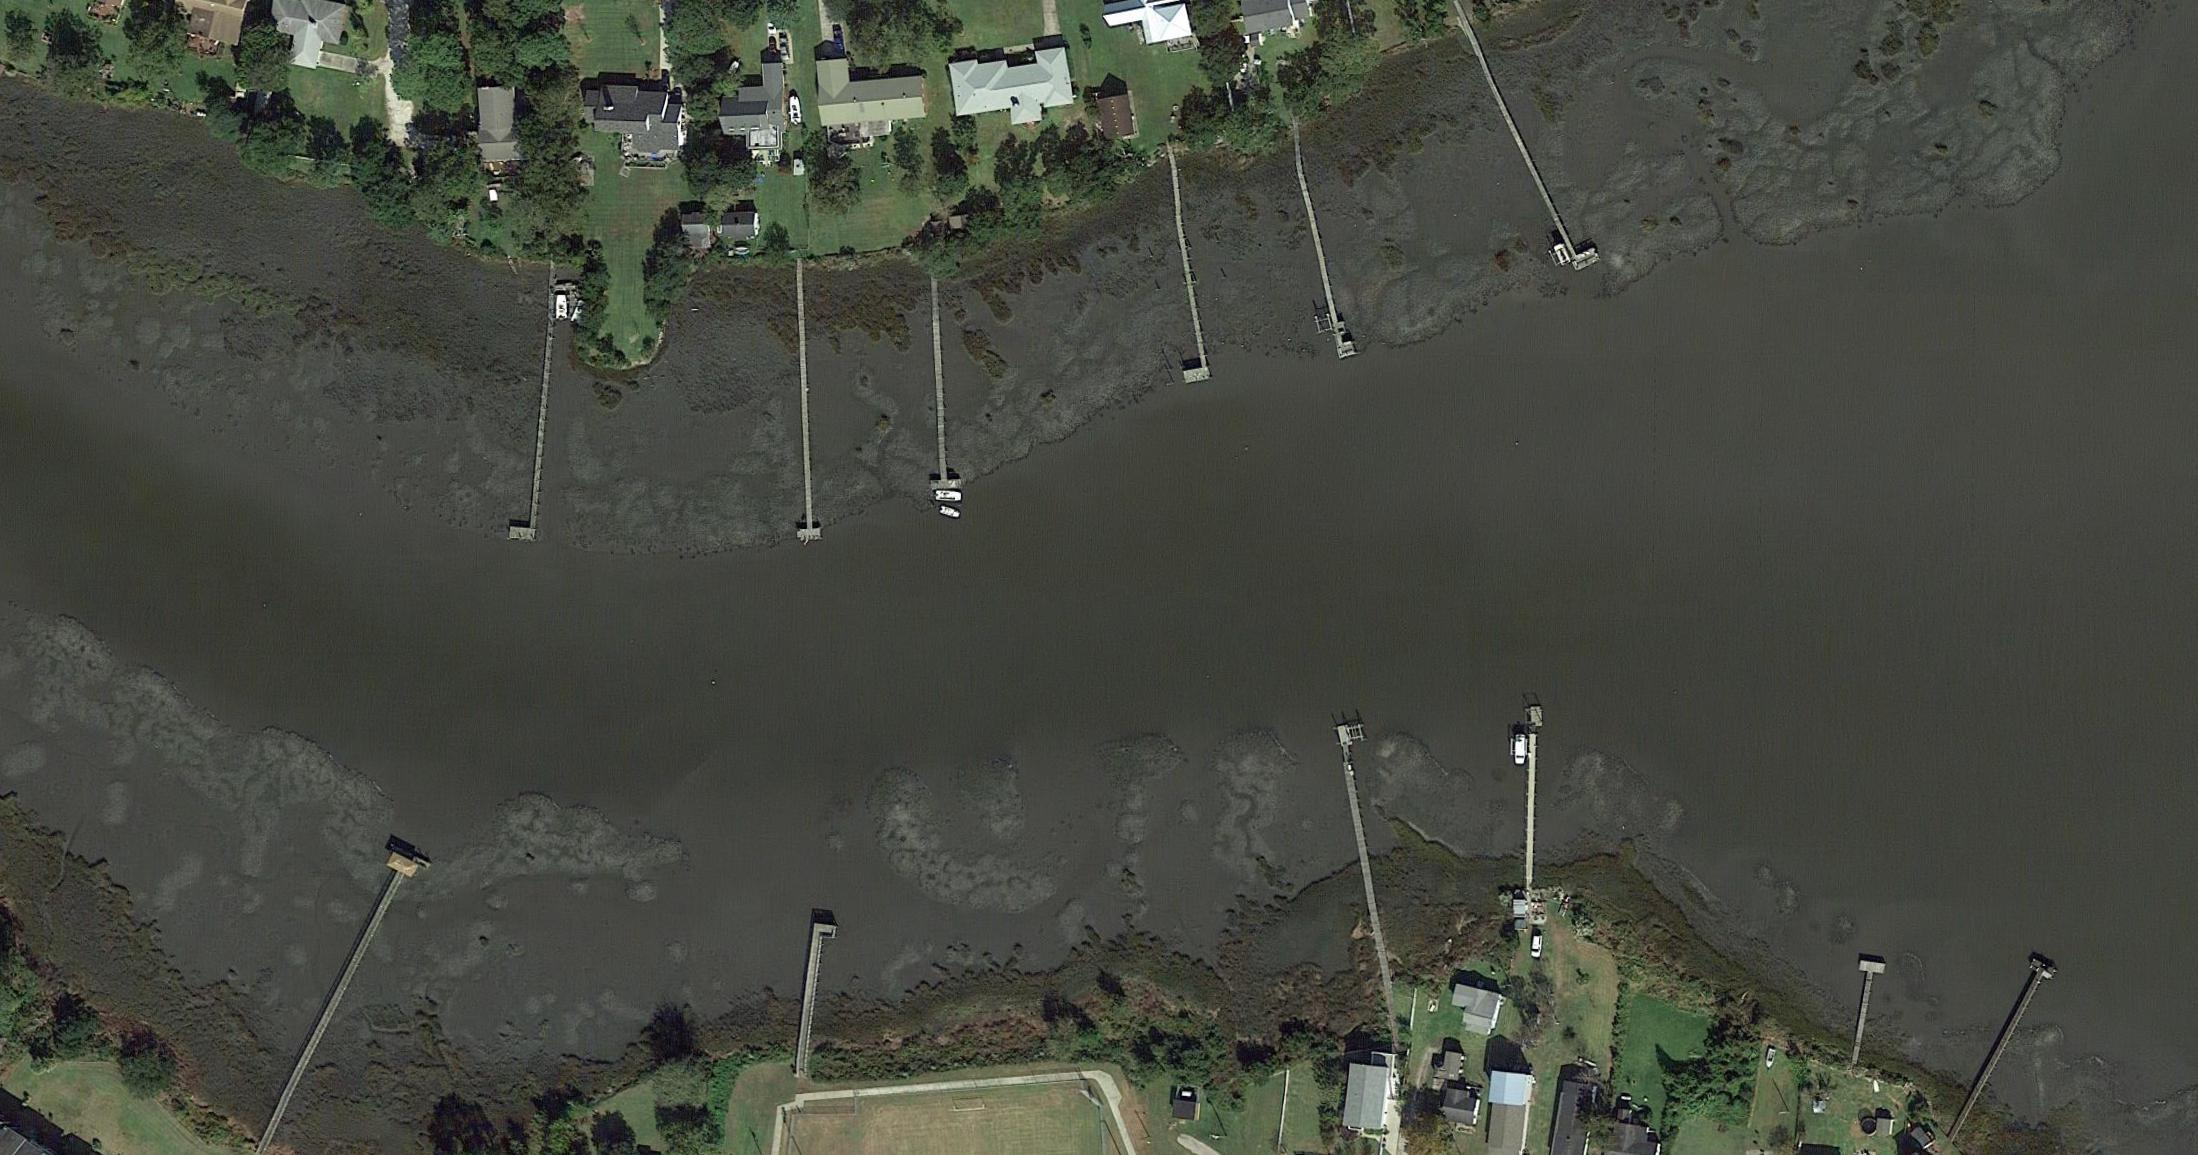harbor: (256, 843, 430, 1127), (1460, 9, 1602, 273), (1944, 956, 2058, 1143), (1337, 722, 1406, 972), (507, 263, 563, 545), (1288, 139, 1358, 359), (1153, 155, 1212, 384), (786, 266, 824, 542), (925, 275, 962, 493), (795, 923, 837, 1066), (1519, 708, 1544, 886), (1845, 960, 1887, 1062)
ship: (568, 299, 592, 325), (1551, 243, 1571, 269), (788, 97, 804, 126), (935, 490, 962, 506), (938, 504, 961, 522), (1513, 735, 1526, 766), (1762, 1046, 1778, 1069), (555, 296, 567, 323), (725, 60, 740, 78)
